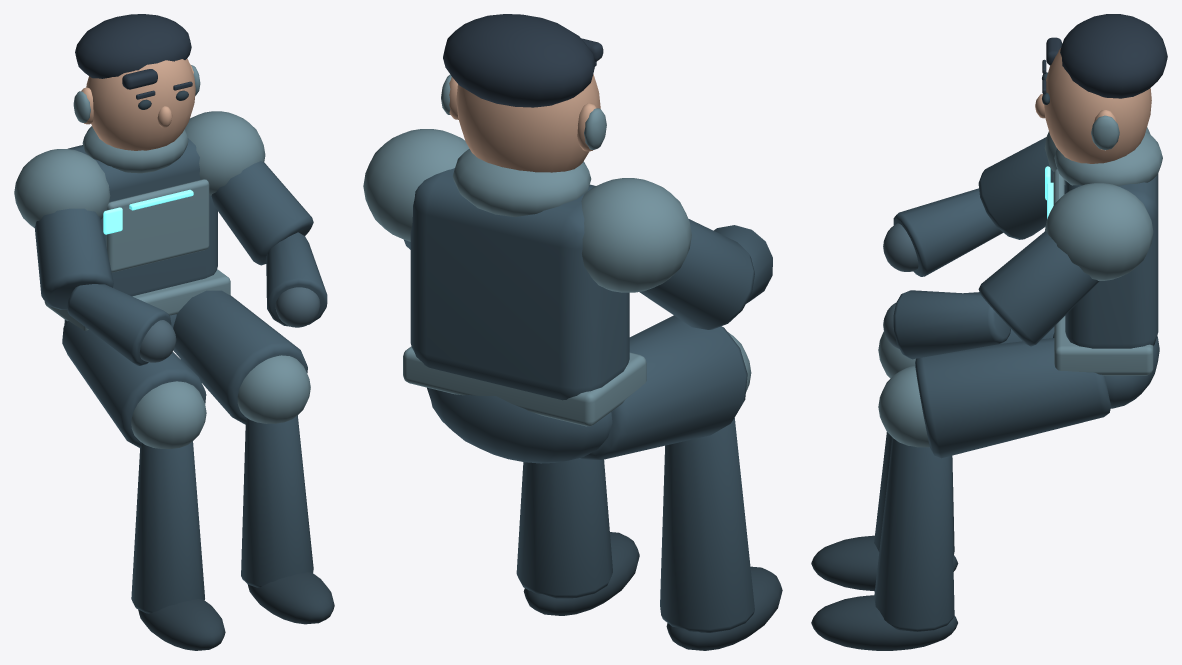
Rendered from AgentSeated.fbx.
3 views of the same model, side by side, from view 1: azimuth 30°, elevation 25°; view 2: azimuth 150°, elevation 25°; view 3: azimuth 270°, elevation 25° (orthographic). The views are drawn at different scales.
Visible parts, largest first — view 1: Canela L, Canela R, Coxa R, Cabeca, Placa toracica, Coxa L, Jaqueta facetada, Braco L, Braco R, Cabelo superior, Ombreira L, Antebraco L (+13 smaller); view 2: Jaqueta facetada, Canela L, Coxa L, Canela R, Cabelo superior, Ombreira L, Cabeca, Quadril, Braco L, Ombreira R, Cinto, Gola (+4 smaller); view 3: Coxa R, Canela R, Ombreira R, Jaqueta facetada, Braco R, Cabelo superior, Cabeca, Antebraco R, Antebraco L, Braco L, Bota R, Cinto (+8 smaller).
Part boxes in pixels (x1,y1,x2,y2): Canela L: (131, 441, 204, 613); Canela R: (241, 415, 313, 587); Coxa R: (173, 290, 307, 424); Cabeca: (86, 59, 195, 150); Placa toracica: (106, 179, 209, 272); Coxa L: (62, 321, 206, 447); Jaqueta facetada: (68, 138, 217, 296); Braco L: (34, 208, 113, 309); Braco R: (211, 161, 313, 265); Cabelo superior: (75, 14, 191, 78); Ombreira L: (14, 149, 110, 227); Antebraco L: (67, 284, 171, 365); Jaqueta facetada: (410, 168, 629, 400); Canela L: (660, 418, 754, 632); Coxa L: (580, 315, 747, 459); Canela R: (516, 458, 612, 598); Cabelo superior: (443, 14, 595, 107); Ombreira L: (581, 178, 691, 292); Cabeca: (456, 74, 600, 172); Quadril: (429, 388, 612, 463); Braco L: (639, 219, 754, 329); Ombreira R: (363, 129, 469, 241); Cinto: (403, 346, 646, 426); Gola: (452, 149, 591, 216); Coxa R: (915, 338, 1110, 458); Canela R: (874, 437, 954, 631); Ombreira R: (1045, 183, 1153, 280); Jaqueta facetada: (1065, 174, 1158, 348); Braco R: (978, 231, 1099, 346); Cabelo superior: (1060, 14, 1167, 98); Cabeca: (1044, 48, 1151, 163); Antebraco R: (893, 290, 1010, 359); Antebraco L: (893, 188, 1003, 276); Braco L: (978, 137, 1065, 239); Bota R: (811, 595, 957, 650); Cinto: (1054, 316, 1153, 375).
Size of the model in its own units: 107 by 204 by 111.
